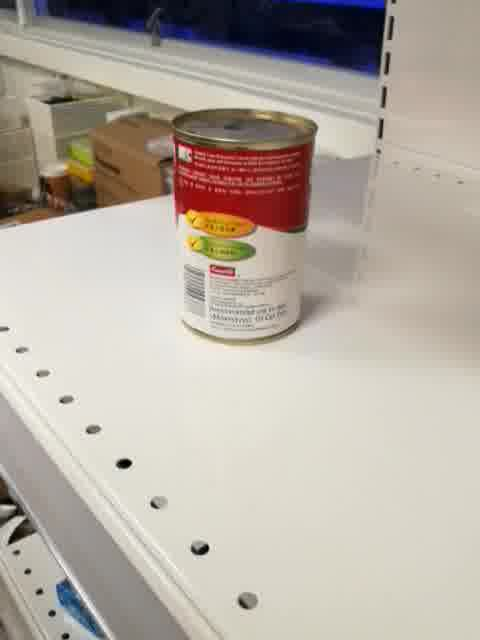tomatosoup: (171, 106, 319, 346)
